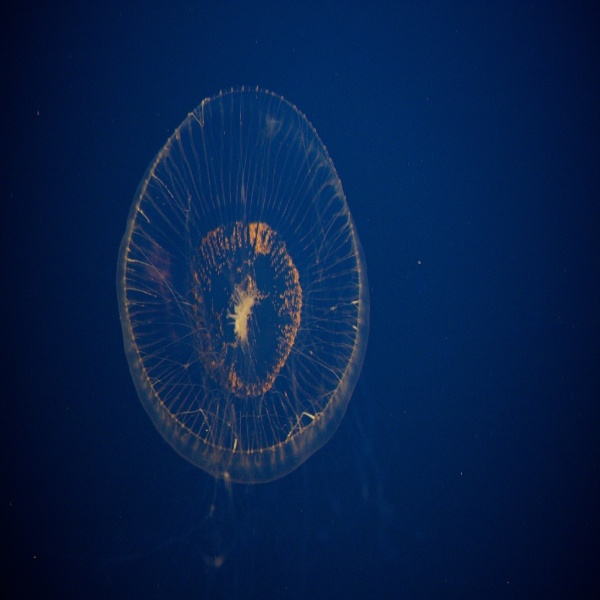Jellyfish: (110, 80, 360, 508)
